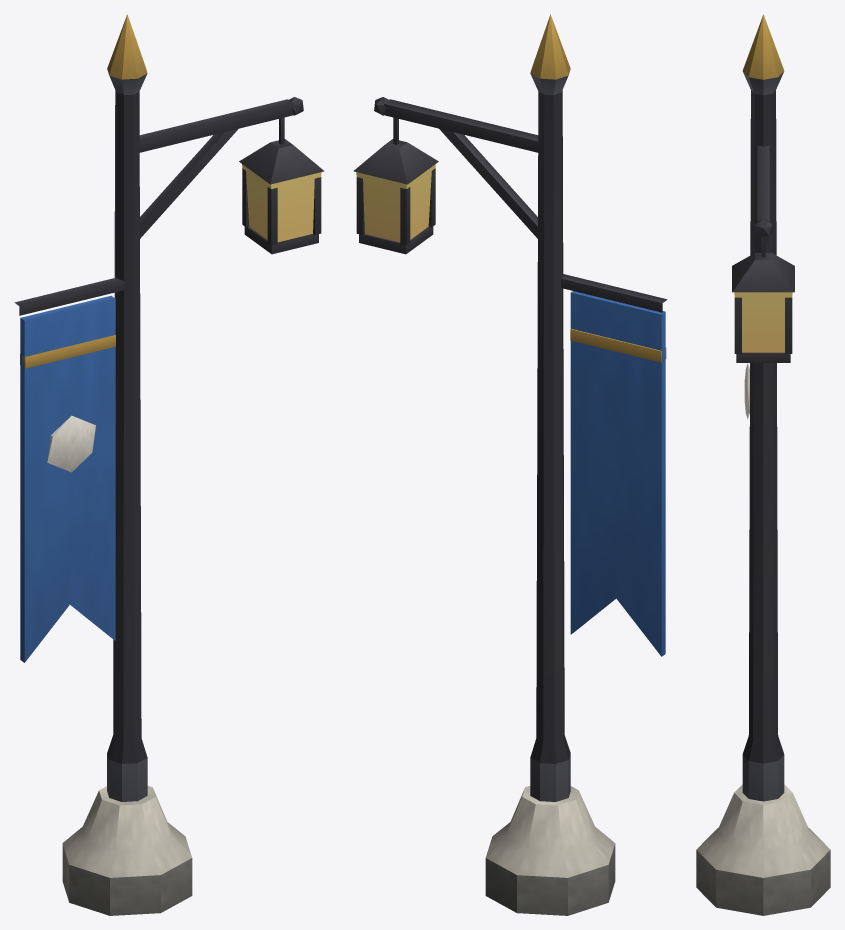
The model's file is prop_lamp_banner_01.glb.
3 views of the same model, side by side, from view 1: azimuth 30°, elevation 25°; view 2: azimuth 150°, elevation 25°; view 3: azimuth 270°, elevation 25° (orthographic).
Parts seen in each view (by area): view 1: prop_lamp_banner_01; view 2: prop_lamp_banner_01; view 3: prop_lamp_banner_01.
Part boxes in pixels (<box>): prop_lamp_banner_01: <box>14,14,324,915</box>; prop_lamp_banner_01: <box>353,14,667,915</box>; prop_lamp_banner_01: <box>696,14,830,915</box>.
Bounding box in the file's own units: 1.62 × 4.6 × 0.64.
Materials: 1 (1 with a texture image).
